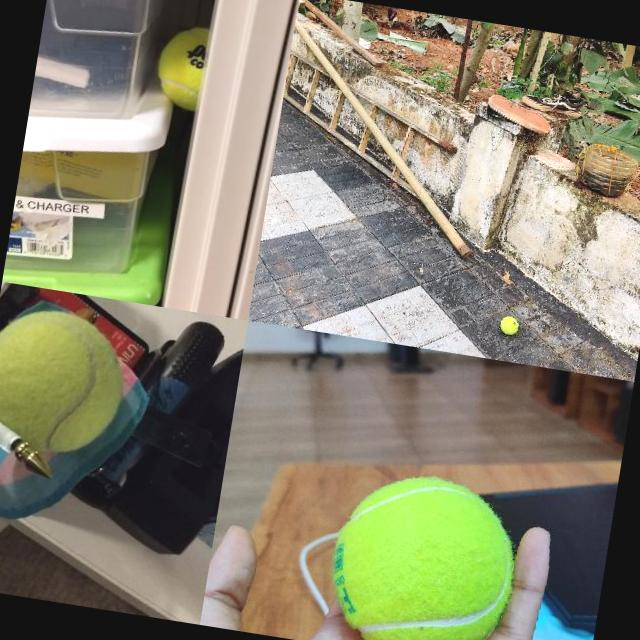Tennis Ball: (320, 464, 525, 640), (0, 300, 135, 422), (152, 21, 208, 113), (498, 315, 520, 336)
